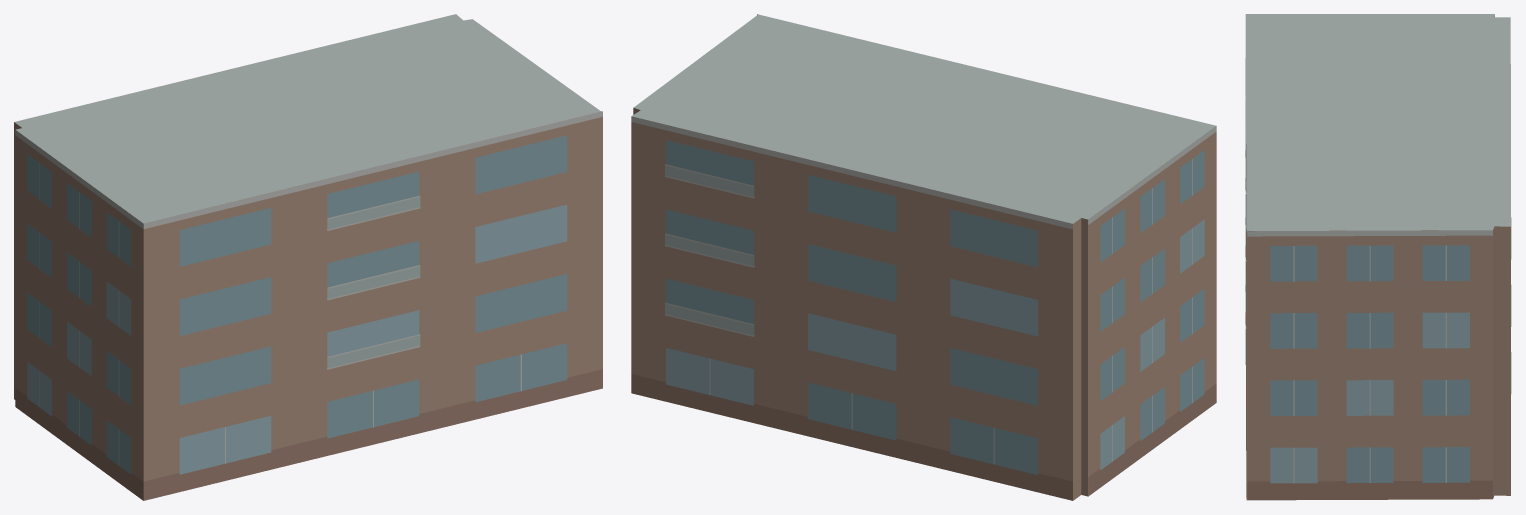
File: survey-upis-33038568.glb
3 renders of one model, left to right at view 1: azimuth 30°, elevation 25°; view 2: azimuth 150°, elevation 25°; view 3: azimuth 270°, elevation 25°, orthographic. The views are drawn at different scales.
Parts seen in each view (by area): view 1: survey-upis-33038568.tmp; view 2: survey-upis-33038568.tmp; view 3: survey-upis-33038568.tmp.
Boxes of the visible parts, x1=… form: survey-upis-33038568.tmp: x1=14, y1=14, x2=602, y2=500; survey-upis-33038568.tmp: x1=631, y1=14, x2=1216, y2=500; survey-upis-33038568.tmp: x1=1245, y1=14, x2=1511, y2=500.
Size of the model in its own units: 20.92 by 12.05 by 10.83.
